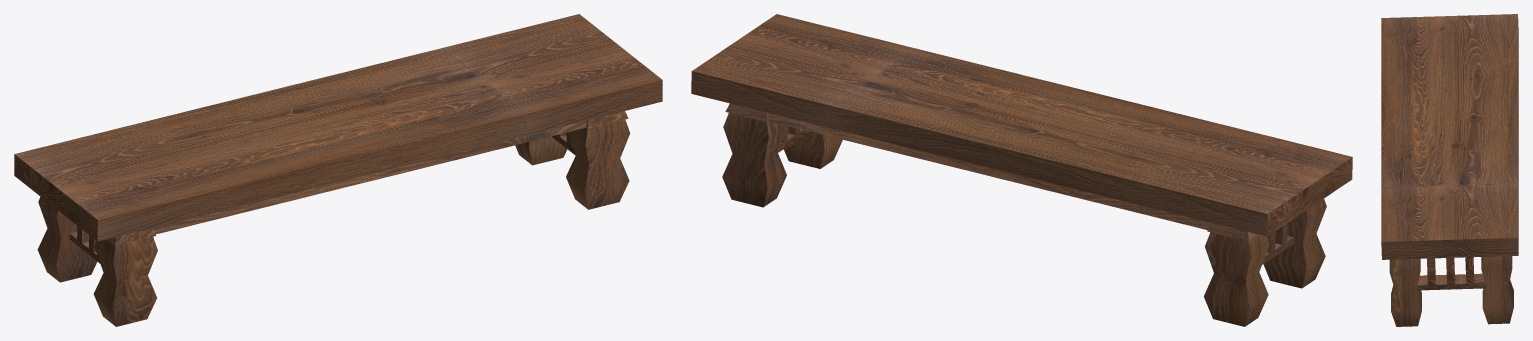
File: tavolo_lungo.gltf
3 views of the same model, side by side, from view 1: azimuth 30°, elevation 25°; view 2: azimuth 150°, elevation 25°; view 3: azimuth 270°, elevation 25° (orthographic). The views are drawn at different scales.
Visible parts, largest first — view 1: Box739_temn goriz_0; view 2: Box739_temn goriz_0; view 3: Box739_temn goriz_0.
Part boxes in pixels (bbox=[...]): Box739_temn goriz_0: bbox=[14, 14, 662, 326]; Box739_temn goriz_0: bbox=[691, 14, 1352, 326]; Box739_temn goriz_0: bbox=[1381, 14, 1518, 326].
Bounding box in the file's own units: 75.52 × 16.29 × 19.41.
